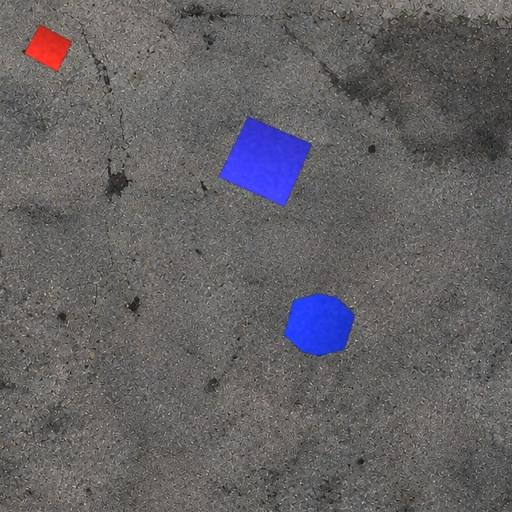BLUE_SQUARE: (218, 116, 312, 207)
RED_SQUARE: (24, 23, 73, 73)
